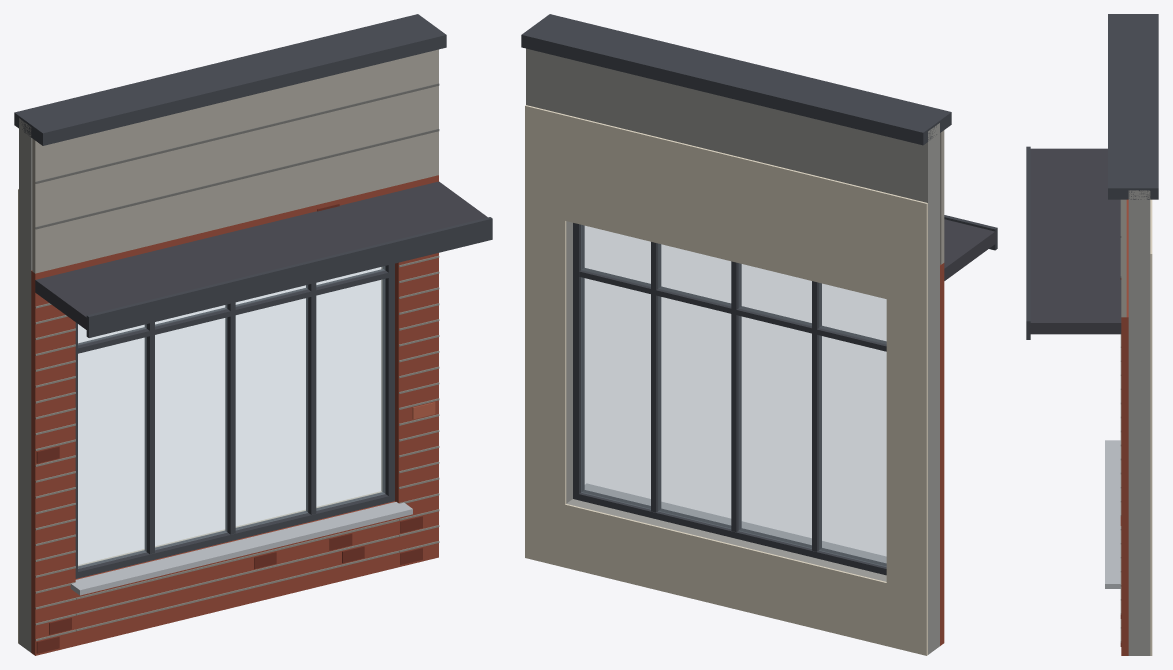
The model's file is Mart_Wall_Window_Wide_4m.glb.
The picture shows the model from 3 angles, left to right: view 1: azimuth 30°, elevation 25°; view 2: azimuth 150°, elevation 25°; view 3: azimuth 270°, elevation 25°; orthographic projection. The views are drawn at different scales.
Parts seen in each view (by area): view 1: Mart_Wall_Window_Wide_4m; view 2: Mart_Wall_Window_Wide_4m; view 3: Mart_Wall_Window_Wide_4m.
Part boxes in pixels (box(x1,y1,x2,y2)): Mart_Wall_Window_Wide_4m: box(14, 14, 492, 655); Mart_Wall_Window_Wide_4m: box(521, 14, 997, 655); Mart_Wall_Window_Wide_4m: box(1026, 14, 1158, 655).
Bounding box in the file's own units: 4 × 5 × 1.28.
2 materials, 1 textured.
